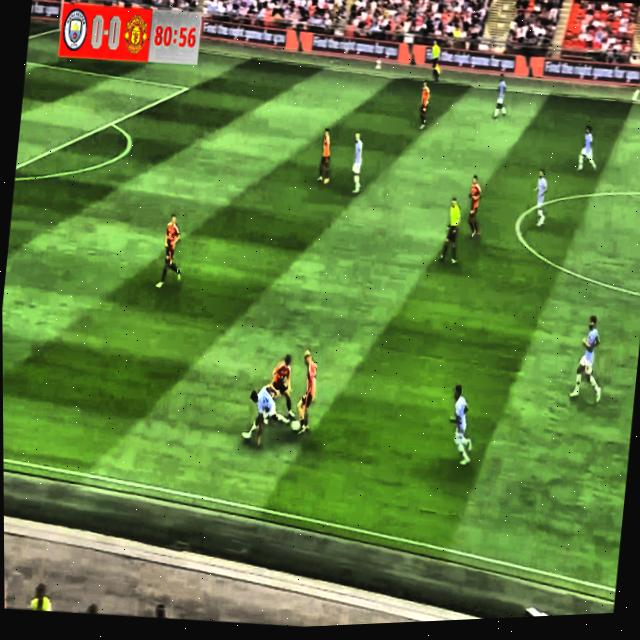ball: (289, 410, 303, 442)
players: (151, 205, 195, 307), (568, 309, 612, 411), (441, 360, 480, 474), (241, 375, 294, 448), (262, 350, 301, 424), (295, 345, 321, 442), (525, 164, 557, 241), (461, 163, 488, 250), (574, 115, 605, 185), (314, 120, 336, 195), (413, 74, 439, 135), (346, 133, 369, 194), (491, 70, 513, 120)
refree: (436, 188, 467, 278), (426, 36, 448, 85)
